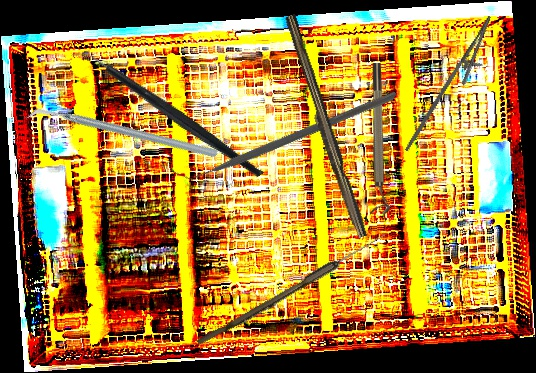Chopper: (172, 14, 397, 252), (68, 2, 265, 227), (23, 44, 220, 224)
Fixation Ring: (370, 63, 390, 214)
Needle Holder: (404, 7, 503, 165)
Scalpel Handle: (278, 13, 371, 241)
Surgical Spoon: (196, 229, 388, 350)
